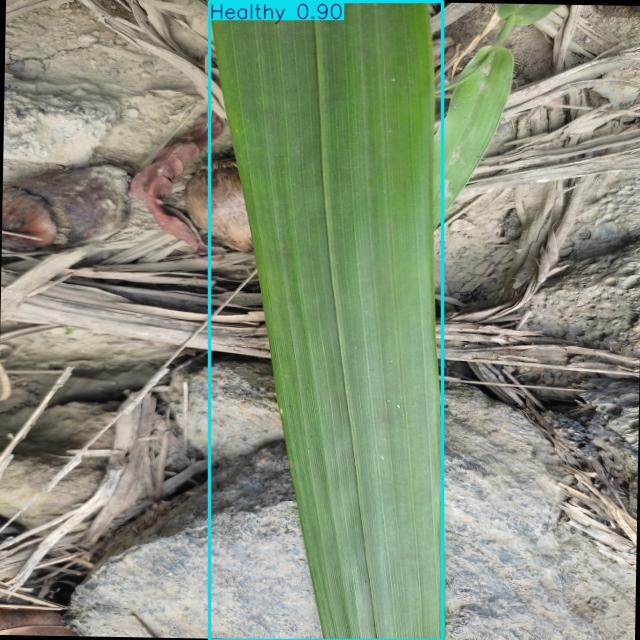Healthy: (210, 1, 442, 640)
